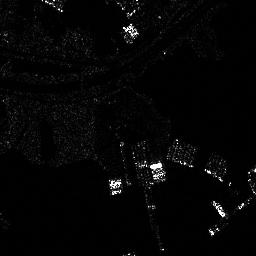ship: (211, 199, 226, 218)
